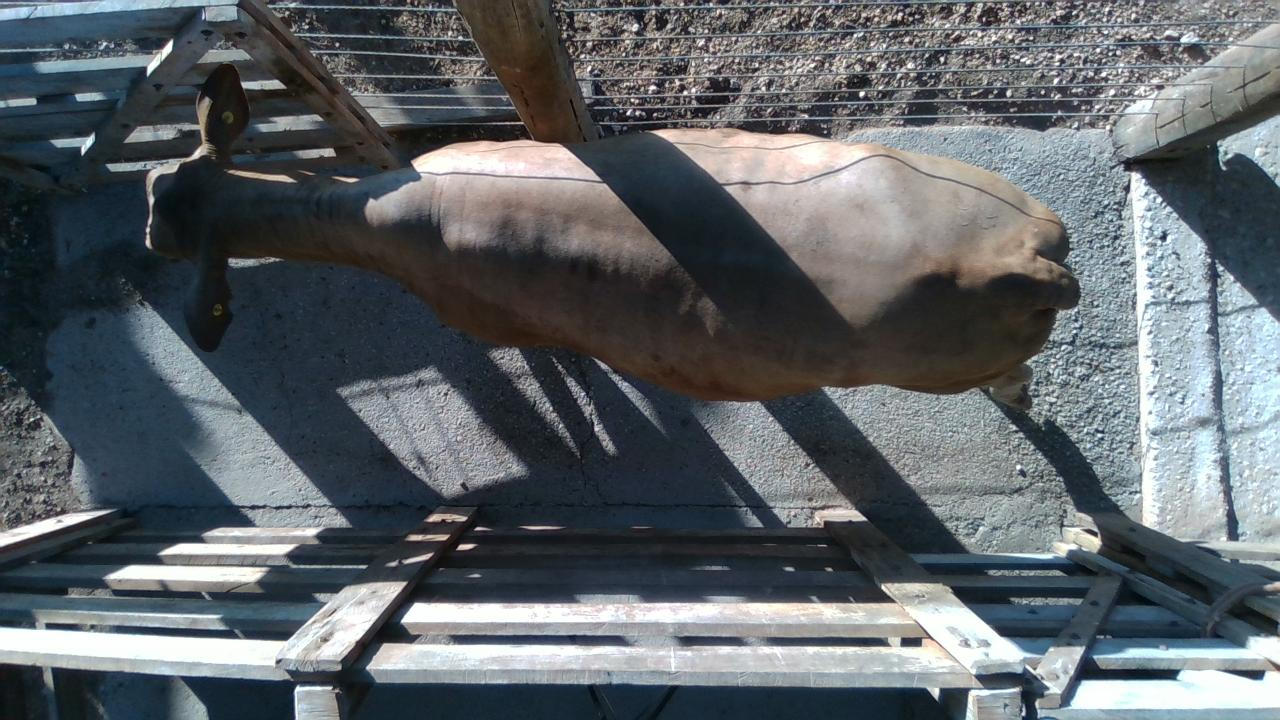cattle: (143, 61, 1081, 413)
